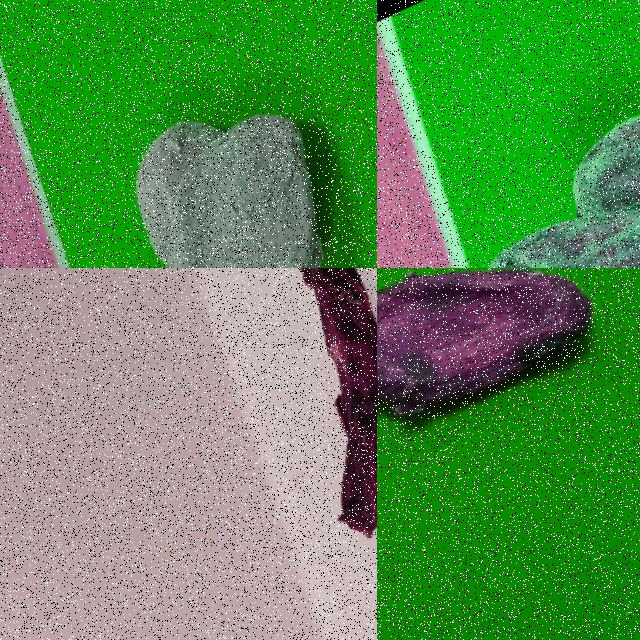Agglomerated_cocoabeans: (21, 0, 376, 267), (400, 0, 639, 267)
Flat_cocoabeans: (377, 268, 639, 567), (192, 268, 376, 599)
